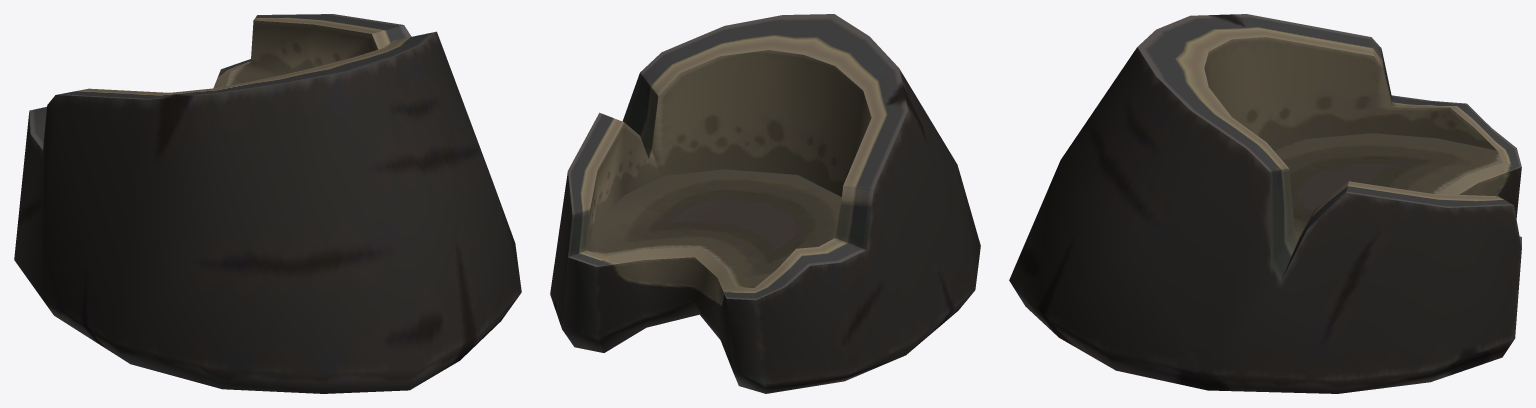
Rendered from Item_Enemy_13.glb.
The picture shows the model from 3 angles, left to right: view 1: azimuth 30°, elevation 25°; view 2: azimuth 150°, elevation 25°; view 3: azimuth 270°, elevation 25°; orthographic projection. The views are drawn at different scales.
Visible parts, largest first — view 1: Item_Enemy_13; view 2: Item_Enemy_13; view 3: Item_Enemy_13.
Boxes of the visible parts, x1,y1,x2,y2 form: Item_Enemy_13: [14, 14, 521, 393]; Item_Enemy_13: [550, 14, 980, 393]; Item_Enemy_13: [1009, 14, 1521, 393].
Size of the model in its own units: 0.5046 by 0.3283 by 0.588.
Materials: 1 (1 with a texture image).
